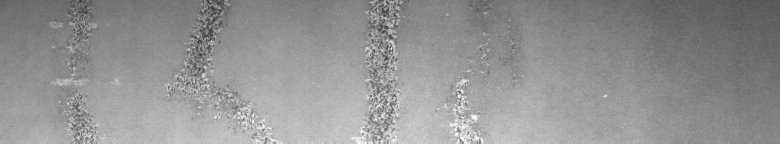hc: (360, 4, 492, 136)
